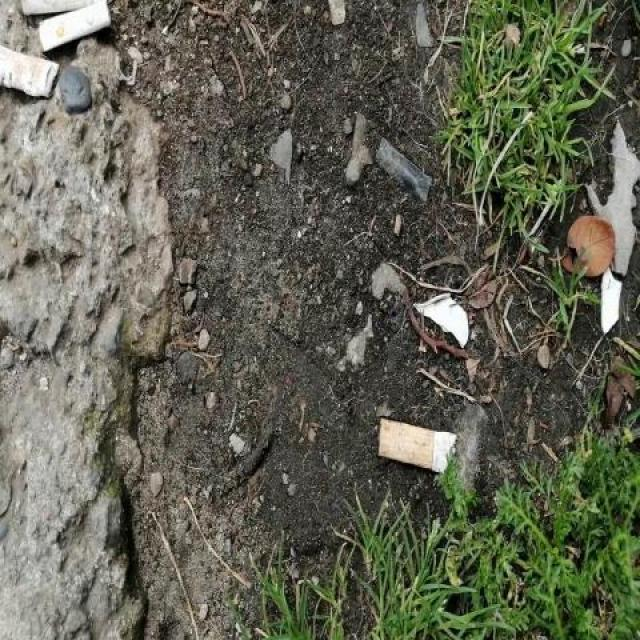non-organic waste: (375, 414, 461, 481), (35, 1, 121, 54), (1, 41, 59, 103)
